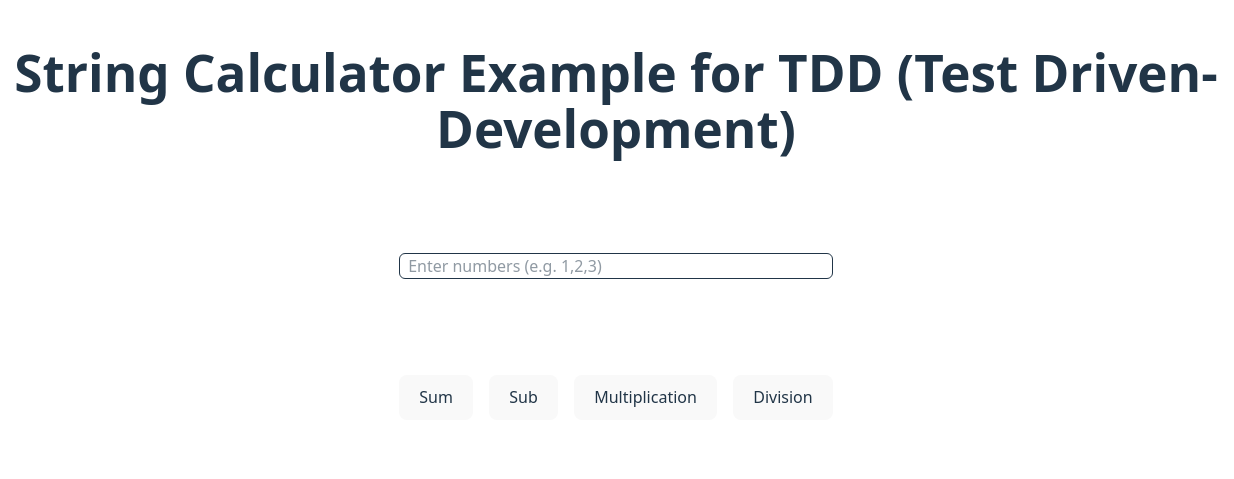
Test case: subtract numbers separated by comma.
Type "3,2" into the field at coordinates (616, 266), box x1=399 y1=253 x2=833 y2=279
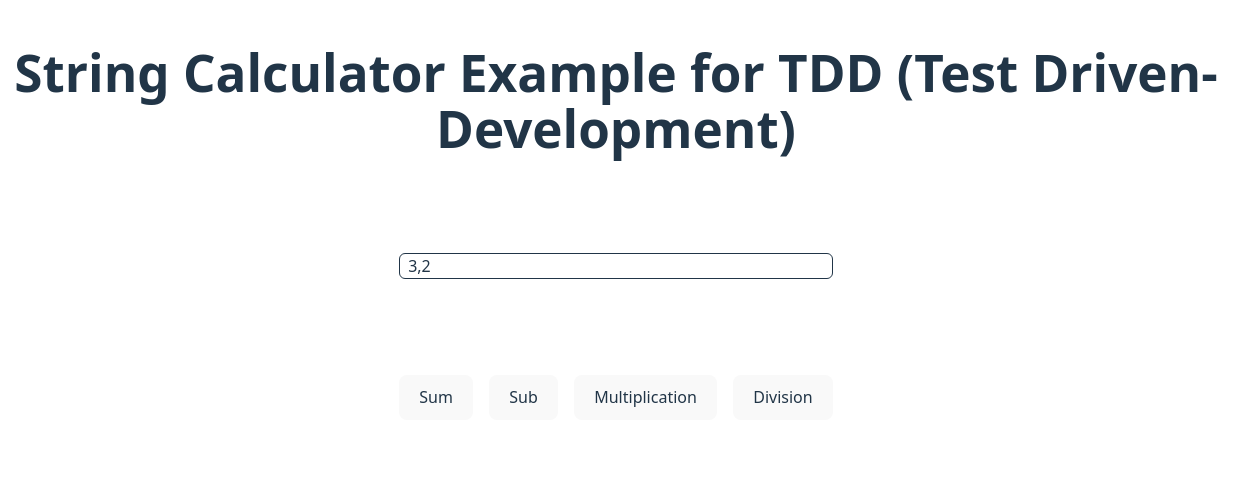
Click the button "Sub" at coordinates (524, 397), box x1=489 y1=375 x2=558 y2=420
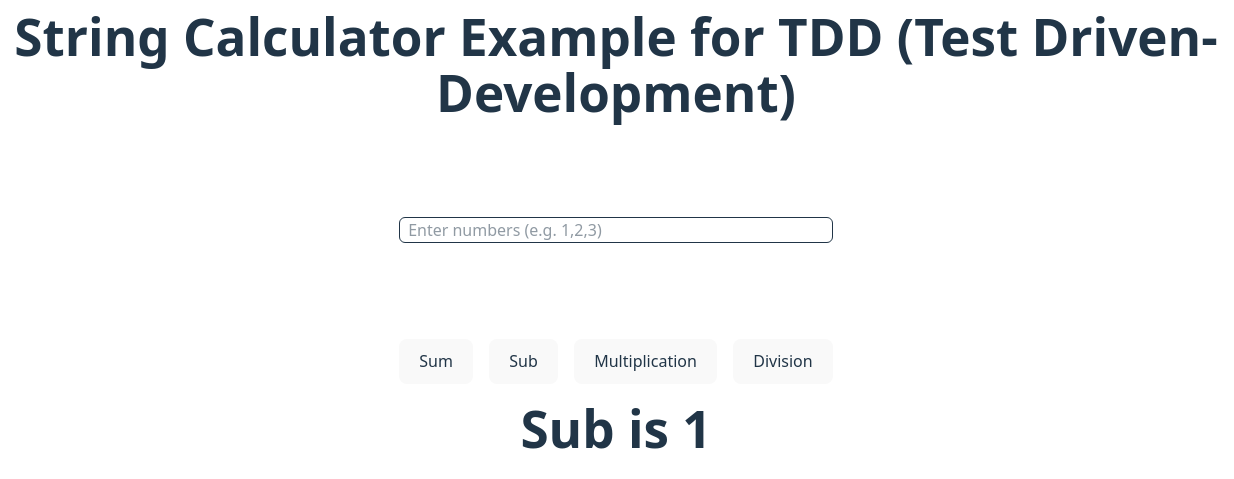
Expected: the heading "Sub is 1" is shown, x1=520 y1=393 x2=712 y2=463
